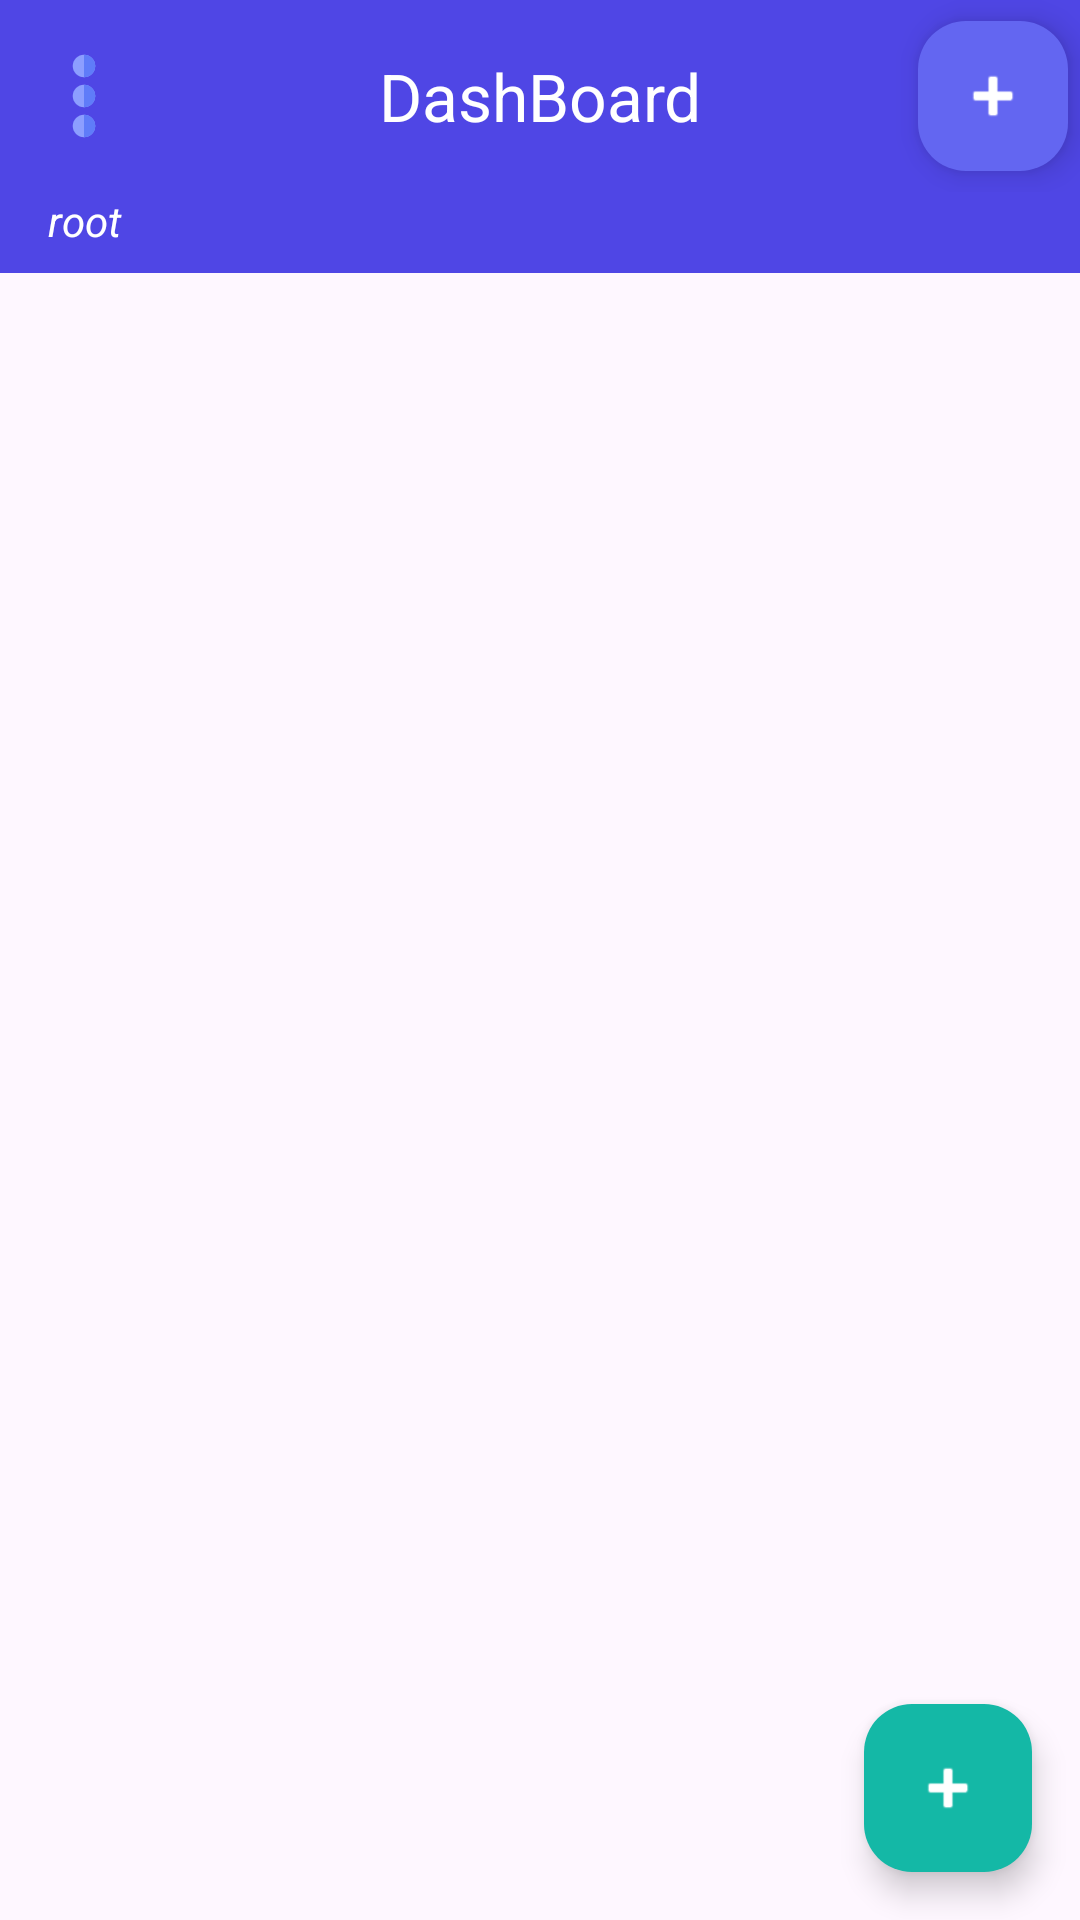

Locate icon controls on the screen. Image size 1080 × 1920, boxes as [x1, y1, x2, y2].
Add Customer: [864, 1704, 1032, 1872]
Add Group: [918, 21, 1068, 171]
